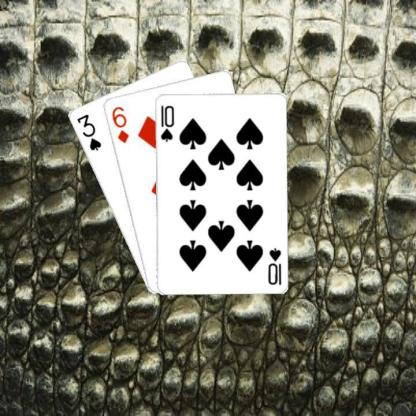10S: (265, 245, 282, 286), (158, 102, 174, 143)
3S: (74, 111, 102, 152)
6D: (109, 104, 130, 144)
